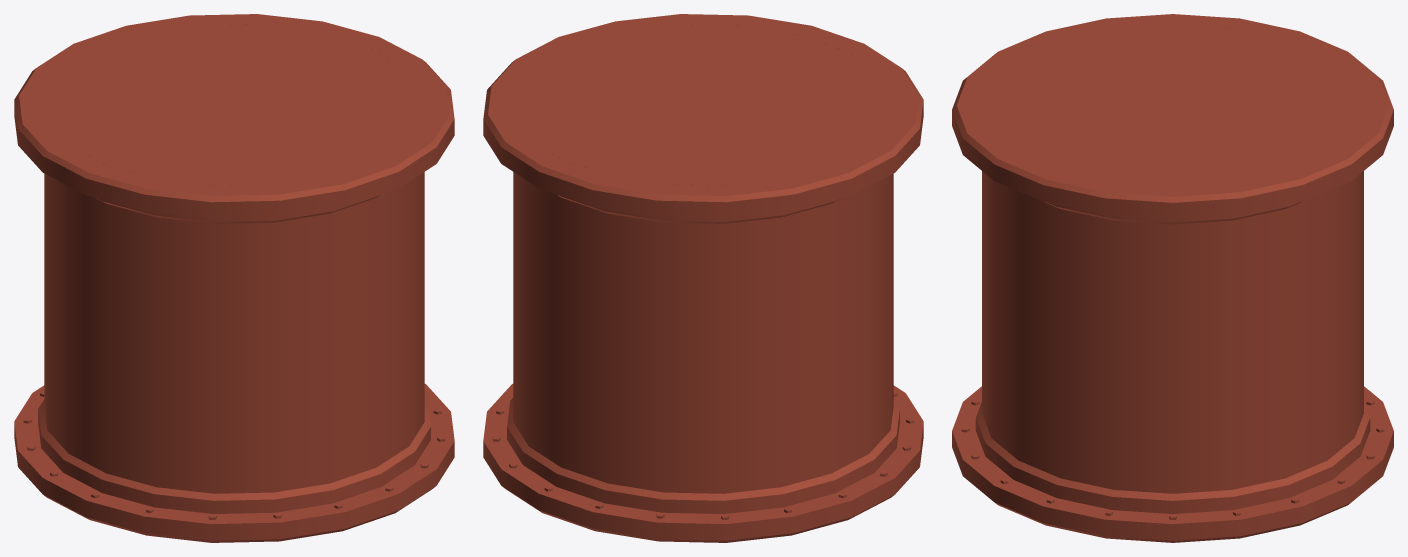
File: Pipe_1m.fbx
3 renders of one model, left to right at view 1: azimuth 30°, elevation 25°; view 2: azimuth 150°, elevation 25°; view 3: azimuth 270°, elevation 25°, orthographic.
Parts seen in each view (by area): view 1: Pipe_1m2; view 2: Pipe_1m2; view 3: Pipe_1m2.
Part boxes in pixels (<box>): Pipe_1m2: <box>14,14,454,542</box>; Pipe_1m2: <box>483,14,923,542</box>; Pipe_1m2: <box>952,14,1393,542</box>.
Bounding box in the file's own units: 0.5785 × 0.5 × 0.5784.
